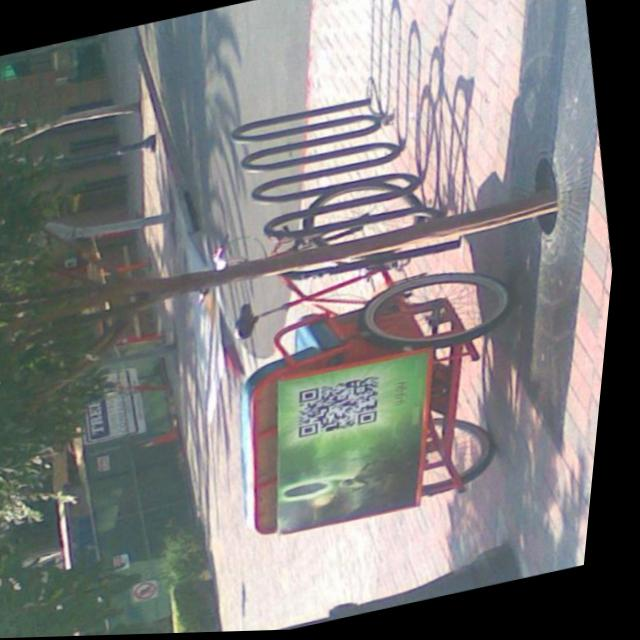qrcode: (300, 377, 396, 440)
